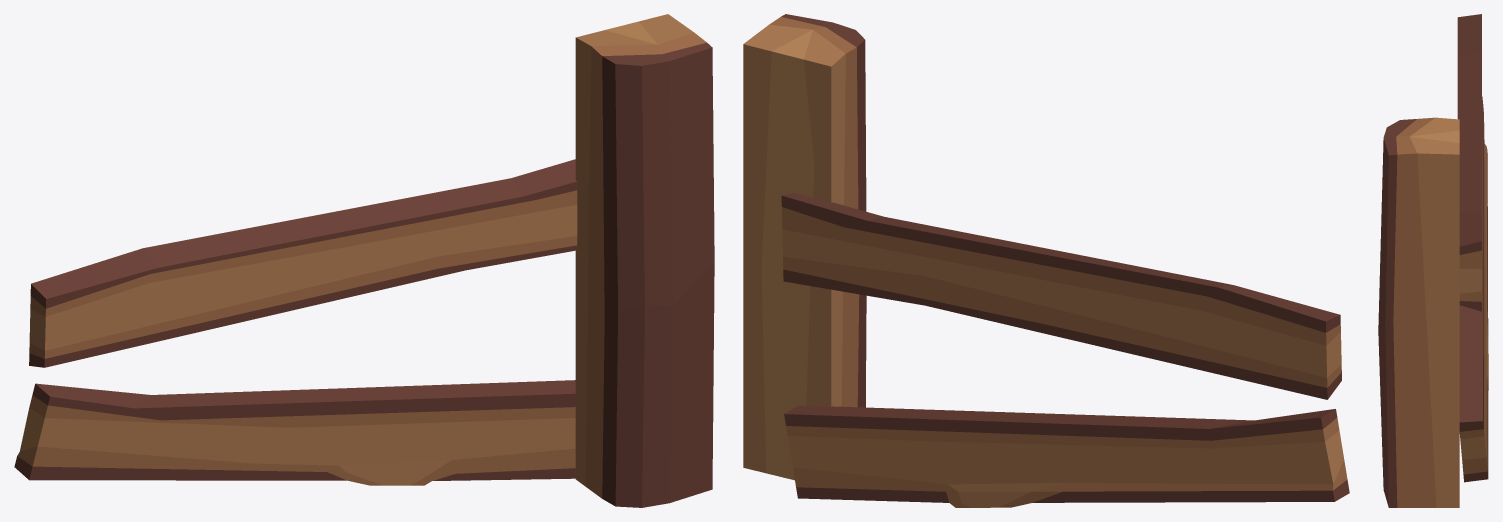
File: fence_plank_broken_2.fbx
3 views of the same model, side by side, from view 1: azimuth 30°, elevation 25°; view 2: azimuth 150°, elevation 25°; view 3: azimuth 270°, elevation 25° (orthographic). The views are drawn at different scales.
Visible parts, largest first — view 1: fence_plank_broken_2; view 2: fence_plank_broken_2; view 3: fence_plank_broken_2.
Part boxes in pixels (x1,y1,x2,y2): fence_plank_broken_2: [14, 14, 714, 507]; fence_plank_broken_2: [743, 14, 1349, 507]; fence_plank_broken_2: [1378, 14, 1488, 507].
Bounding box in the file's own units: 104 × 70.24 × 19.56.
